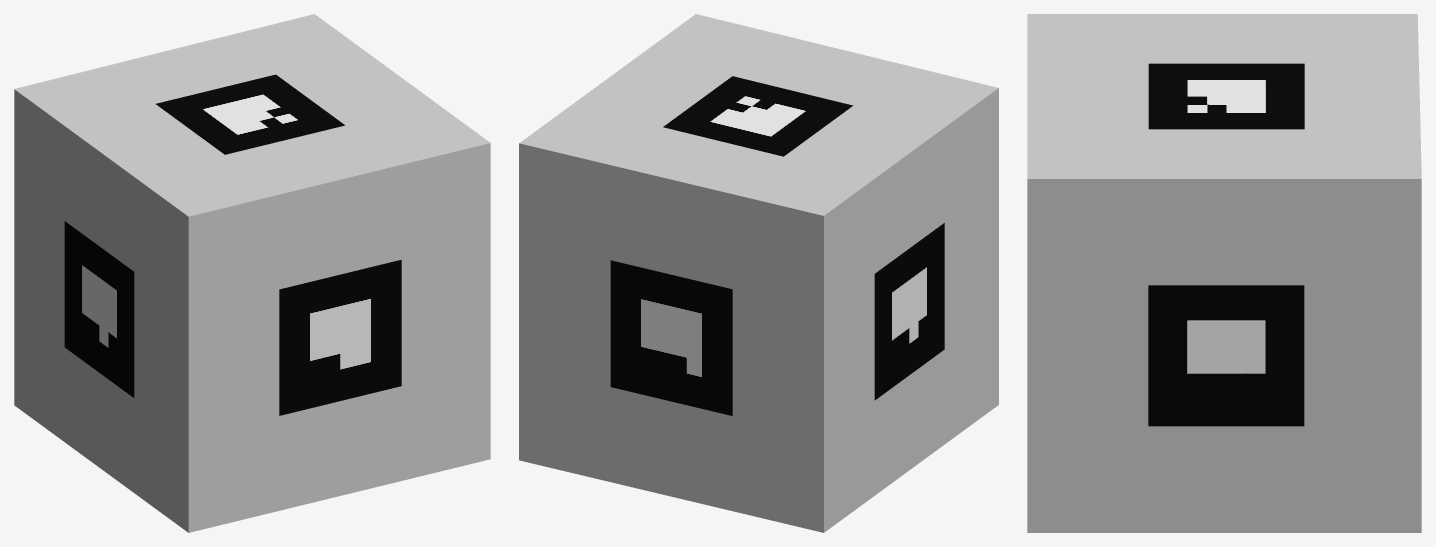
Rendered from target3.dae.
3 views of the same model, side by side, from view 1: azimuth 30°, elevation 25°; view 2: azimuth 150°, elevation 25°; view 3: azimuth 270°, elevation 25° (orthographic). The views are drawn at different scales.
Parts seen in each view (by area): view 1: group_0 (×4); view 2: group_0 (×4); view 3: group_0 (×3).
Boxes of the visible parts, <box> form: group_0 (×4): <box>14,14,490,532</box>; group_0 (×4): <box>519,14,998,532</box>; group_0 (×3): <box>1027,14,1421,532</box>.
Size of the model in its own units: 39.37 by 39.78 by 39.37.
6 materials, 5 textured.
